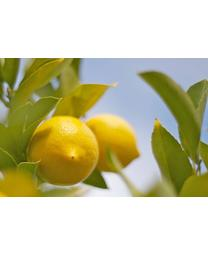lemon: (27, 115, 99, 186), (84, 114, 141, 175)
